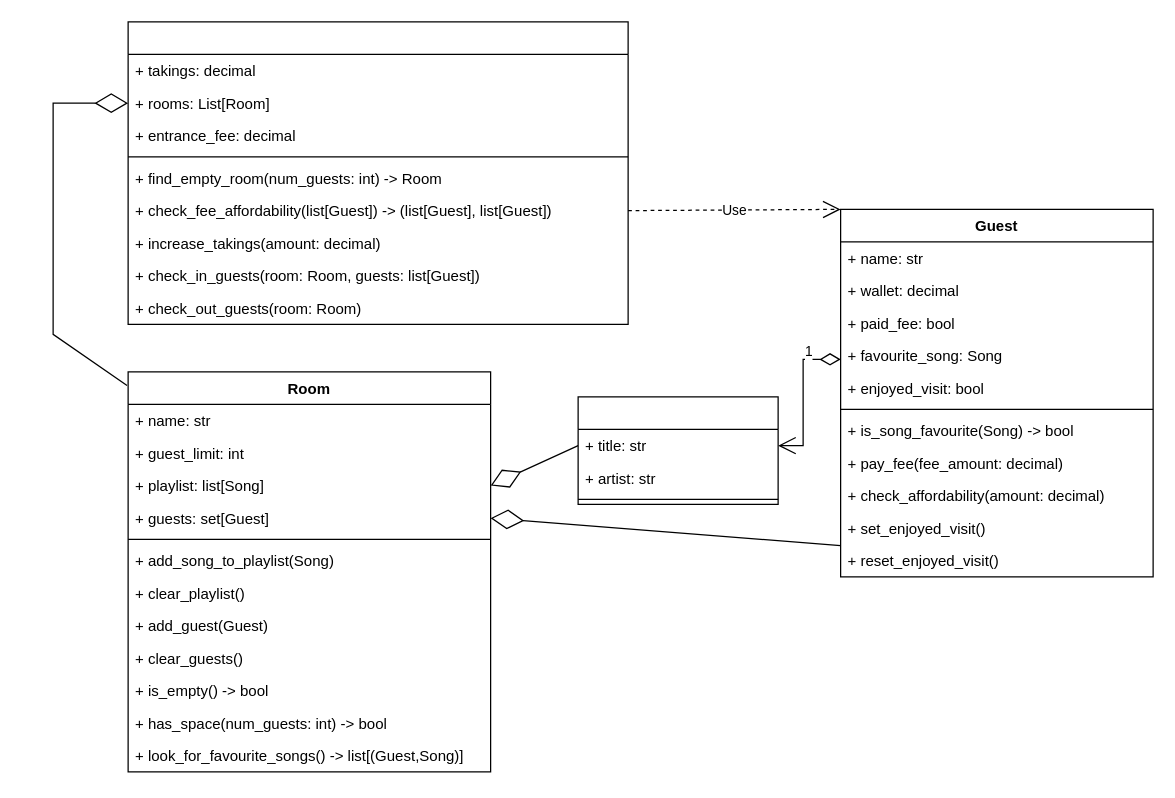
Image size: 1175x798. Some labels were removed from this diagram. The shapes that lost their labels are listed below. From the top down, each one's box as (x1, y1, x2, y2) in pixels, then its label:
(127, 21, 628, 324): KaraokeBar
(577, 396, 778, 504): Song
